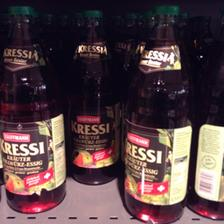Essig: (123, 5, 199, 222), (0, 4, 68, 216), (64, 9, 120, 185)
